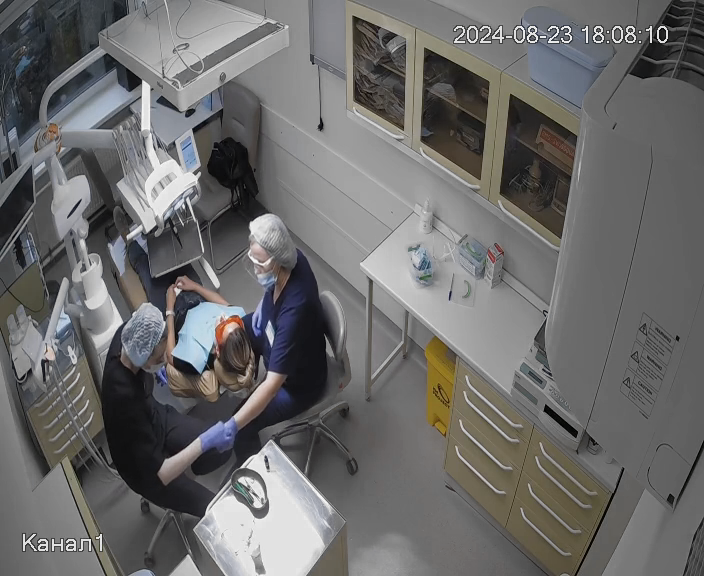Patient: (106, 224, 256, 401)
